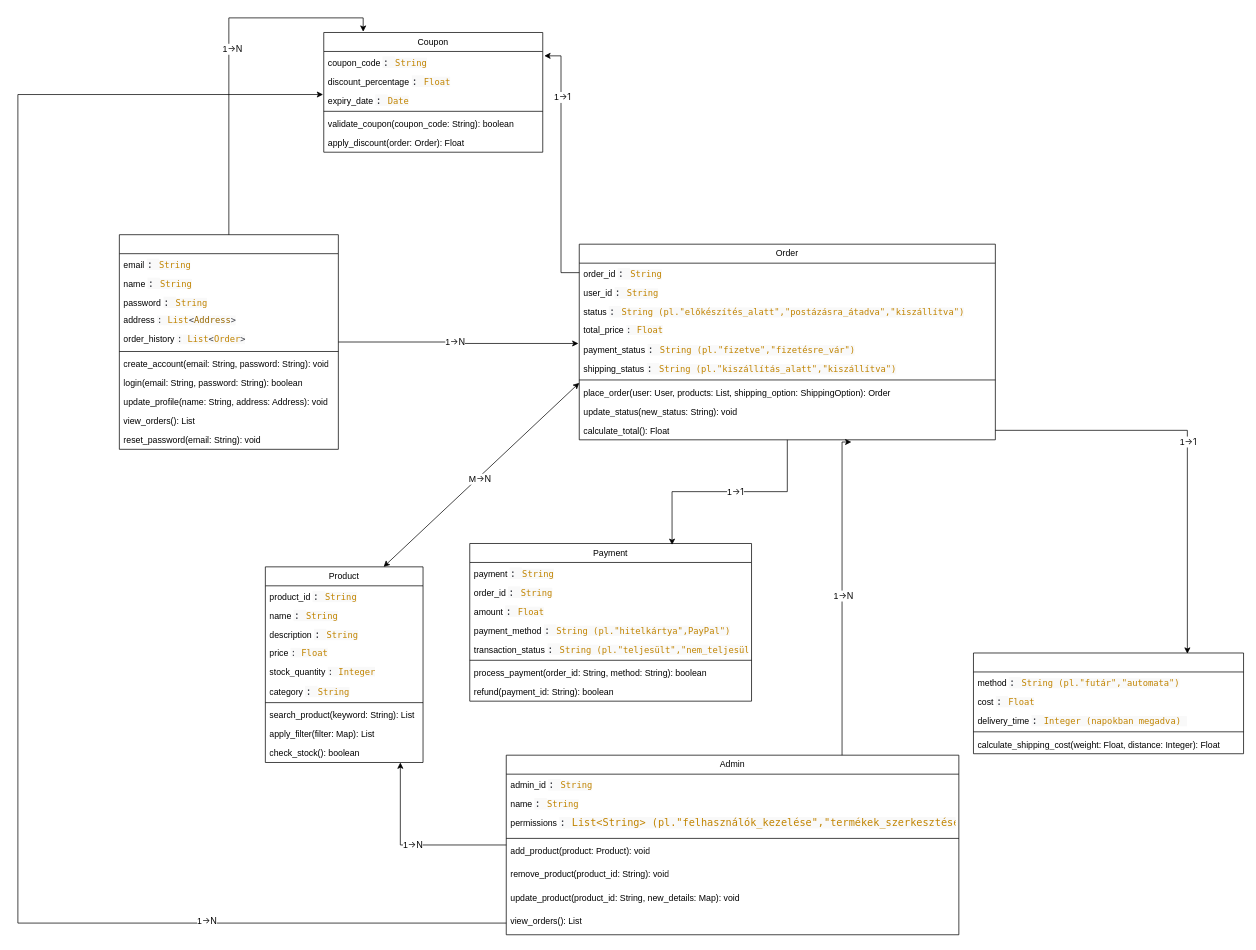
This 1256x950 diagram has some shape labels left out. Each missing label, with the box of its shape:
ShippingOption: (973, 652, 1244, 754)
User: (119, 234, 338, 449)
